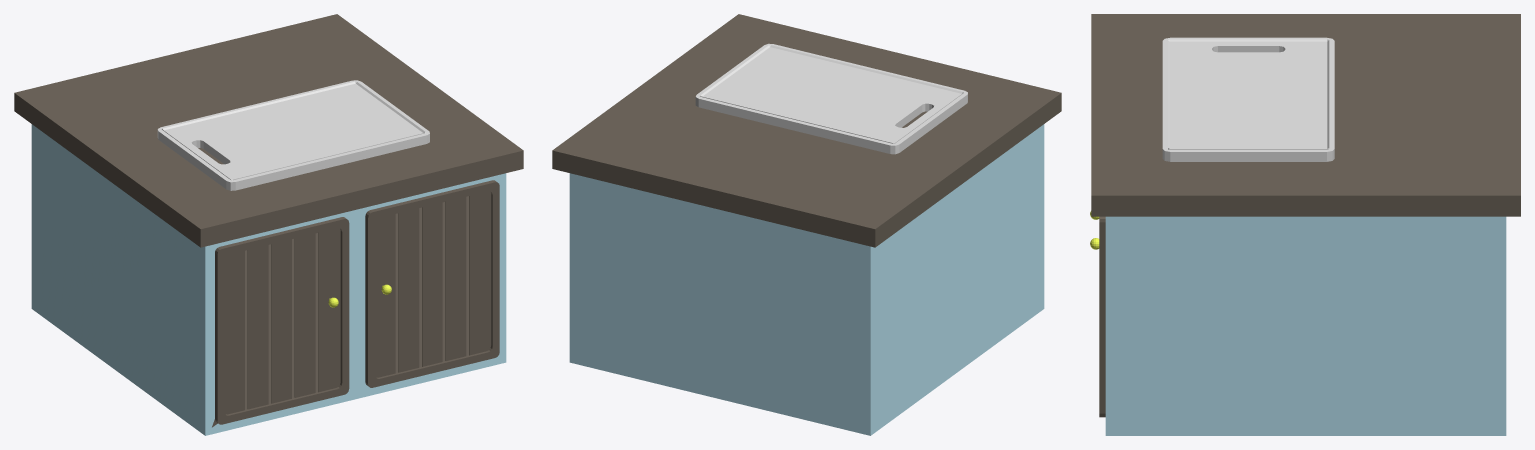
The model's file is CuttingBoard.fbx.
3 views of the same model, side by side, from view 1: azimuth 30°, elevation 25°; view 2: azimuth 150°, elevation 25°; view 3: azimuth 270°, elevation 25° (orthographic). The views are drawn at different scales.
Visible parts, largest first — view 1: Cutting Board; view 2: Cutting Board; view 3: Cutting Board.
Boxes of the visible parts, box(x1,y1,x2,y2) form: Cutting Board: box(14, 14, 523, 435); Cutting Board: box(552, 14, 1061, 435); Cutting Board: box(1090, 14, 1520, 435).
Size of the model in its own units: 346 by 228 by 347.
